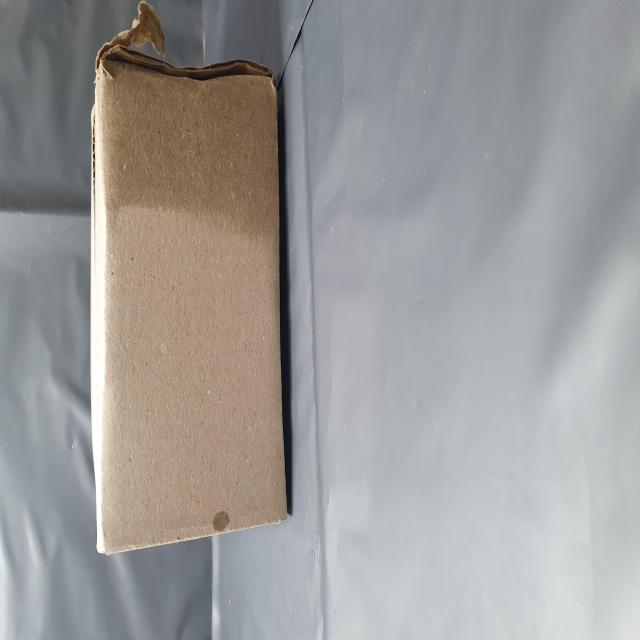wet: (220, 153, 336, 522)
